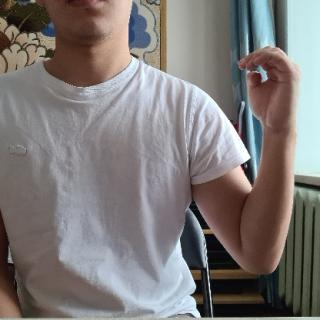JEEM: (235, 42, 303, 143)
